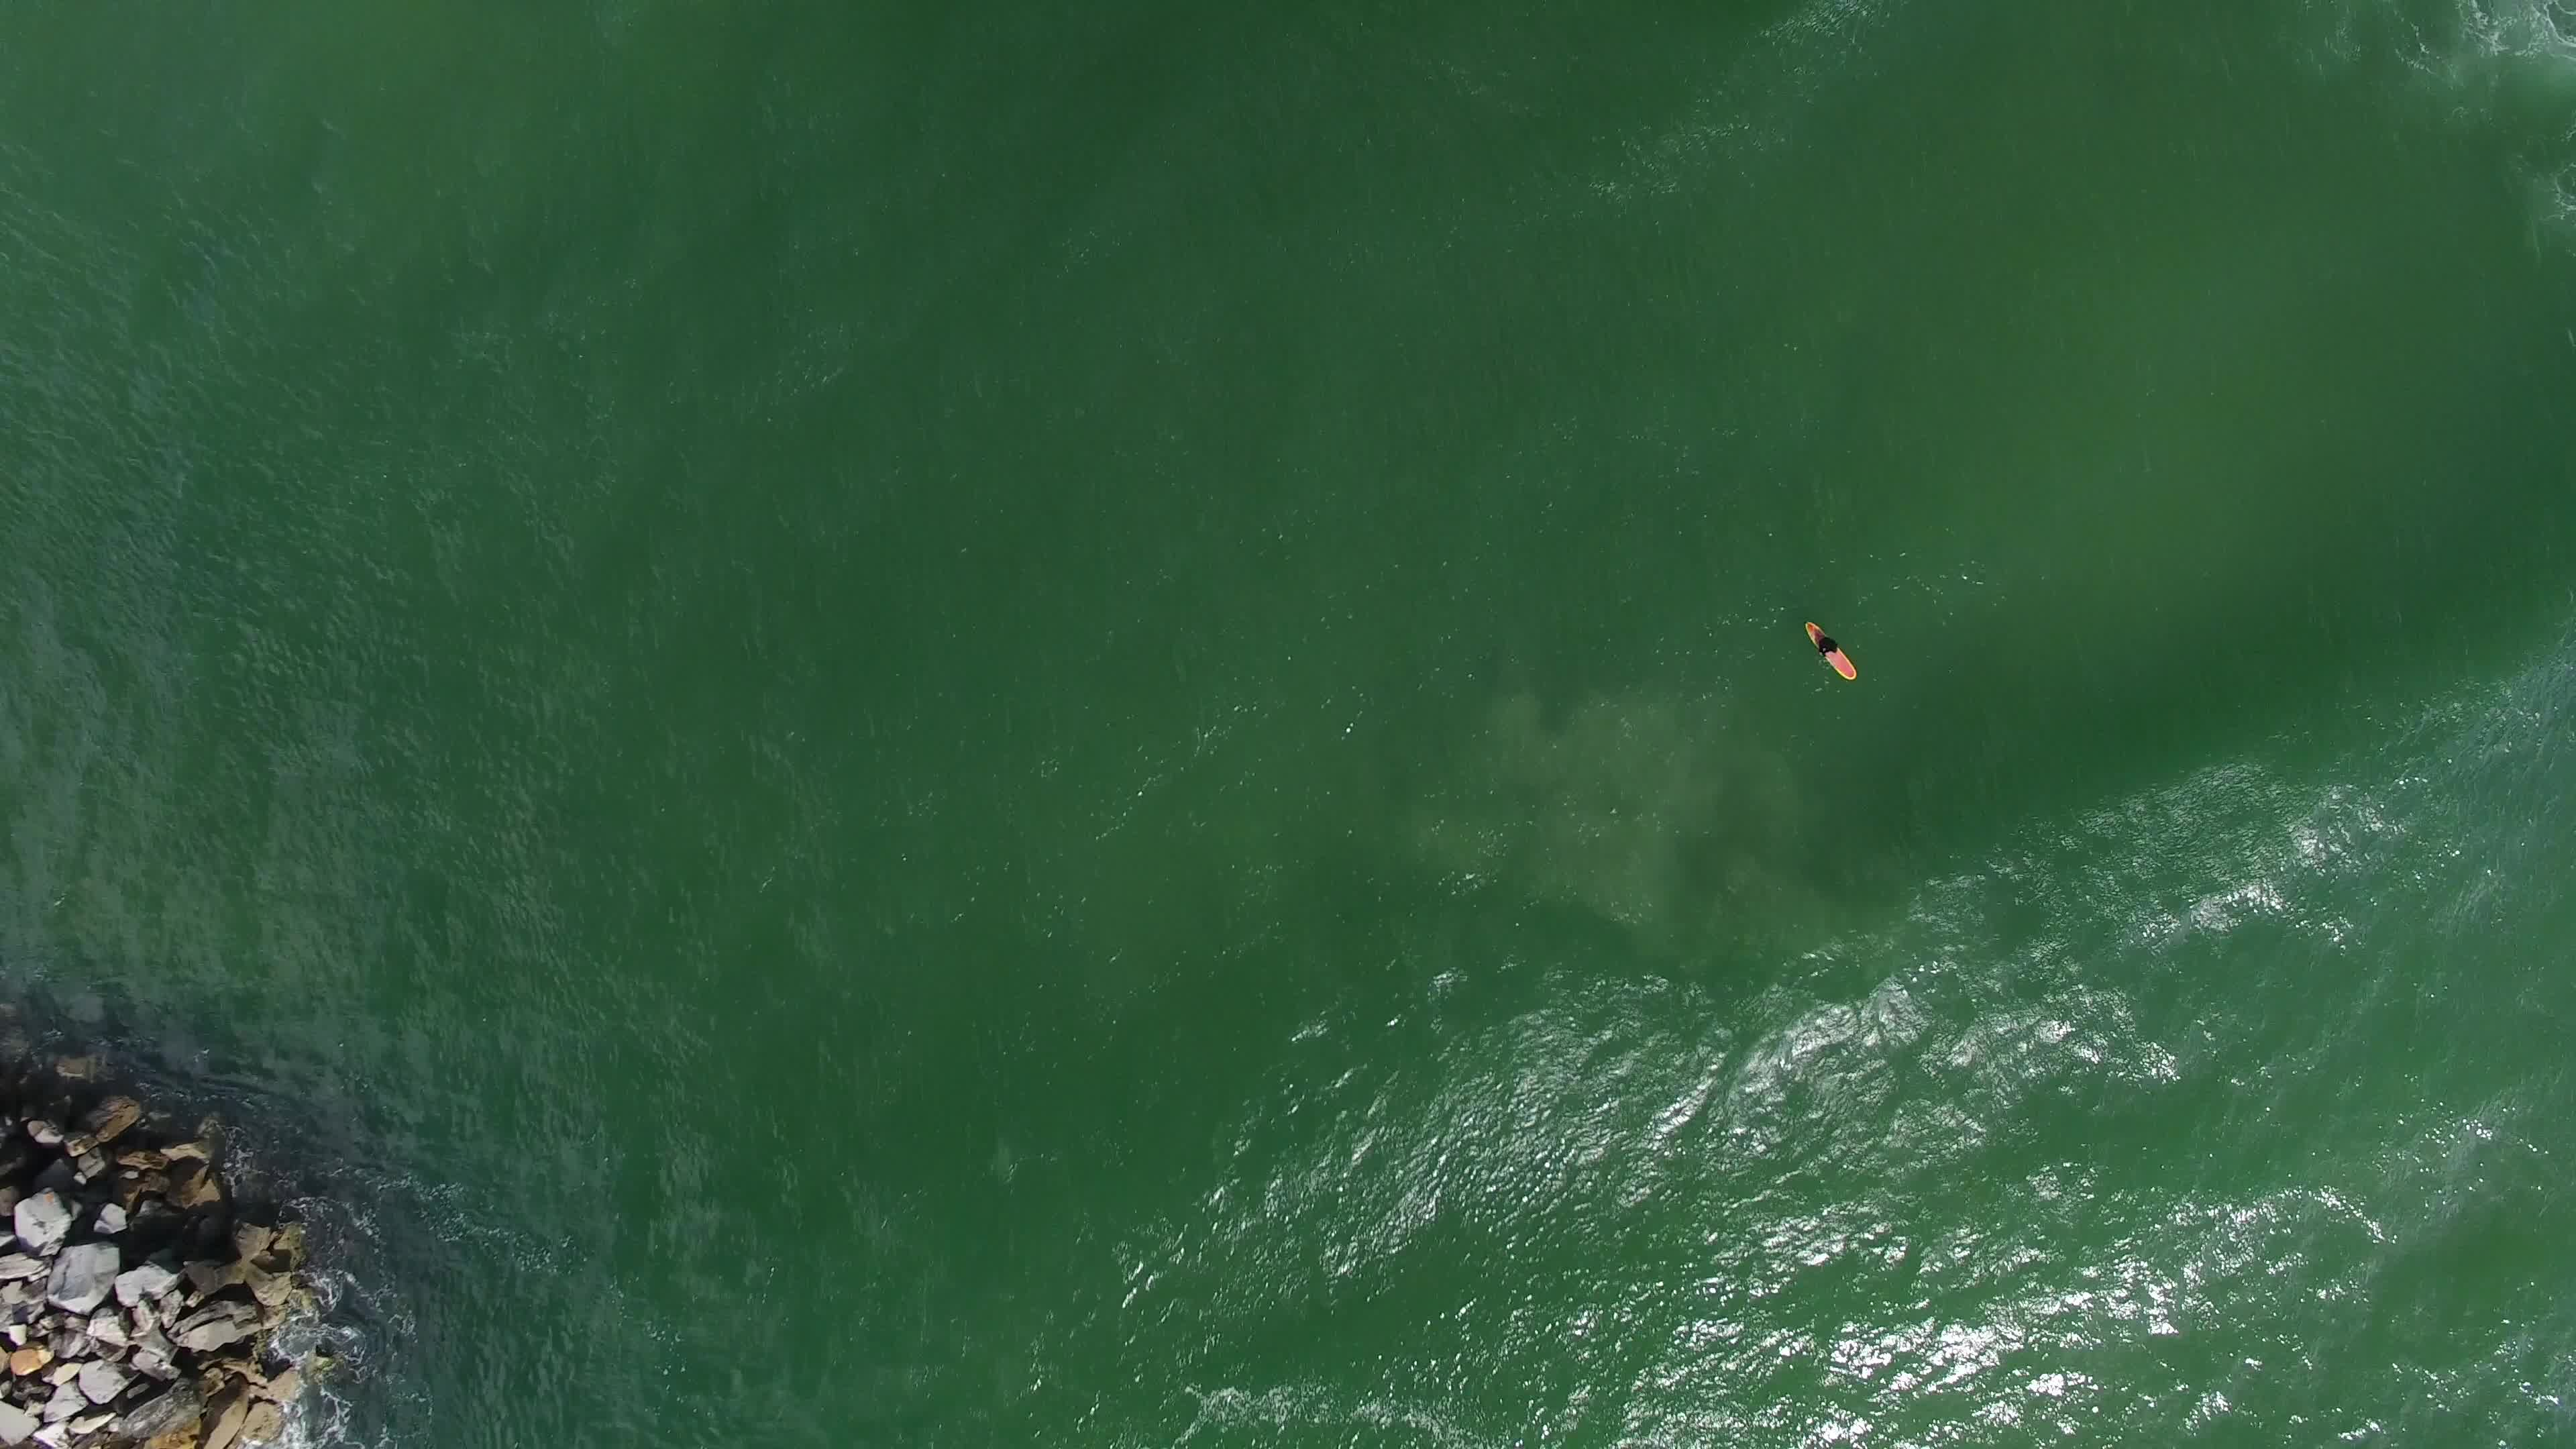surfer: (1794, 603, 1867, 694)
